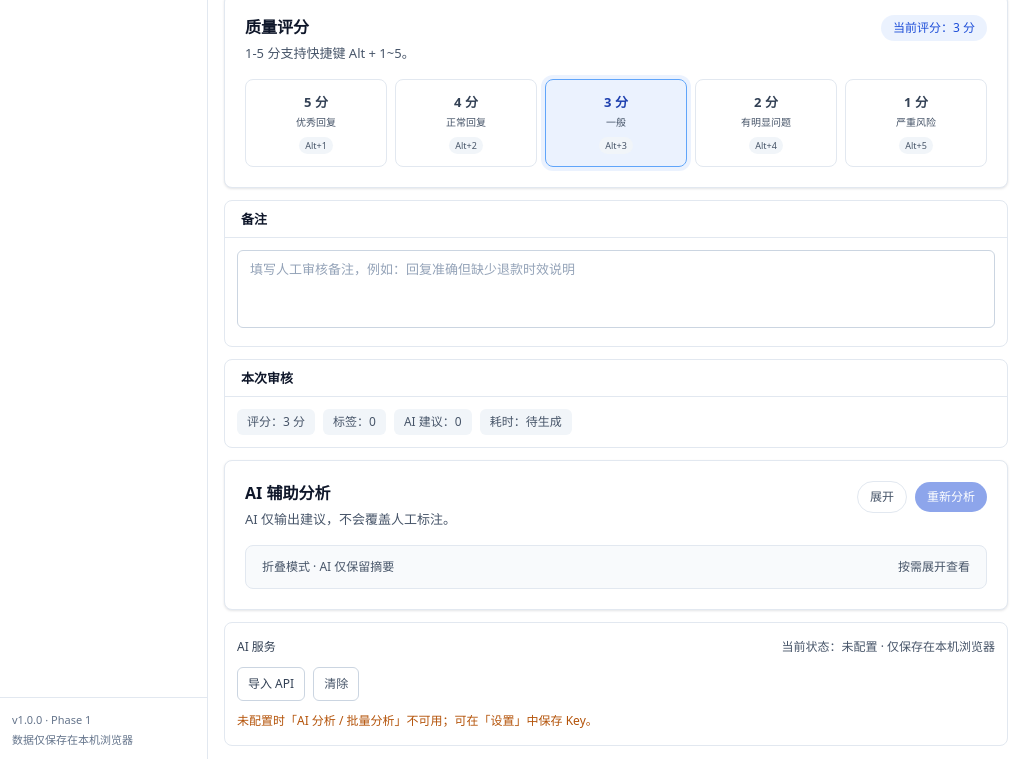
it: F. AI 分析 › 分析失败（DeepSeek 返回 HTTP 500）→ 显示「AI 分析失败」与错误文案
(page scrolled)
Click the button "导入 API" at x=271, y=684, box [237,667,305,701]
(page scrolled)
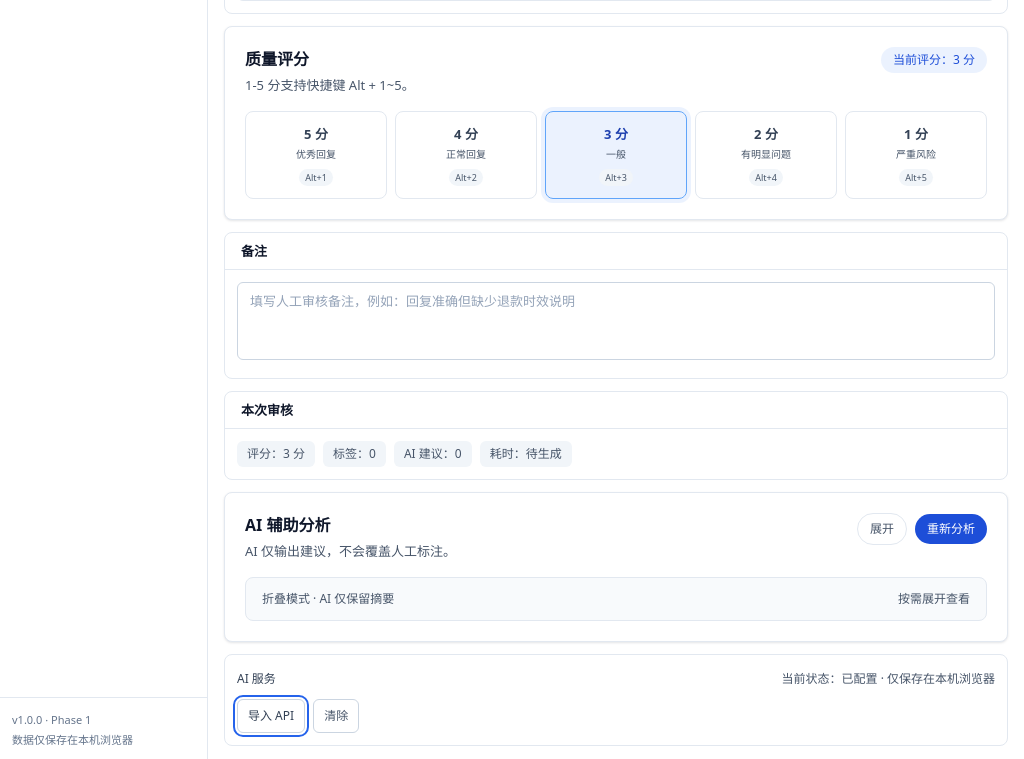
Click the button "展开" at x=882, y=529, box [857,513,907,545]
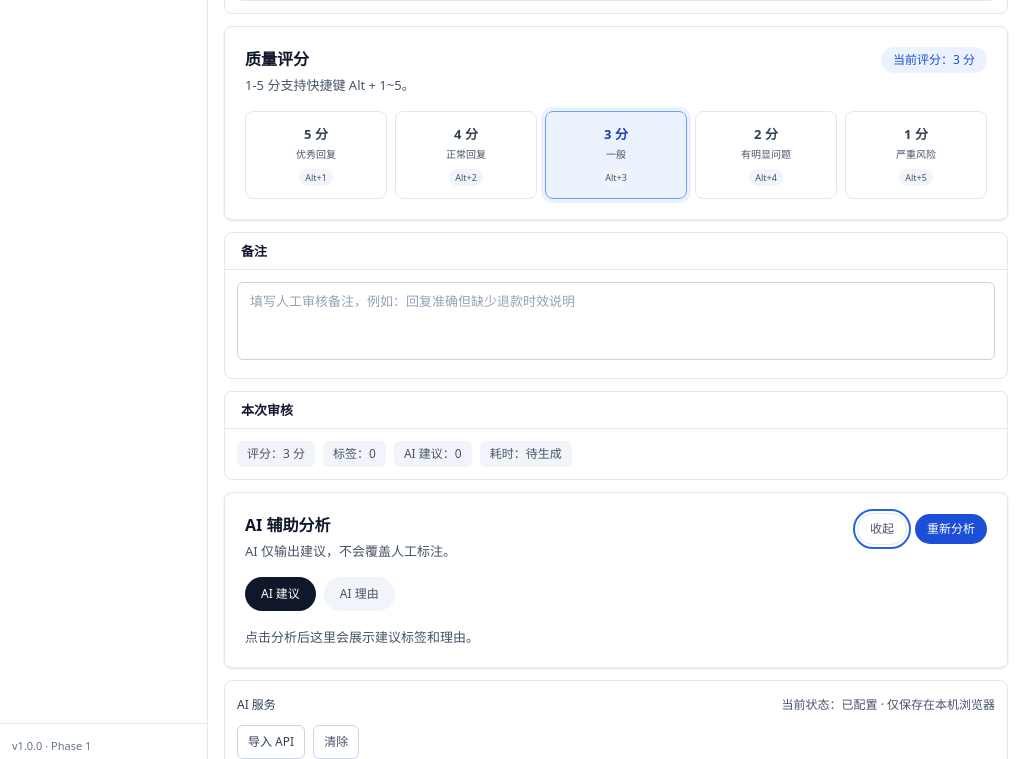
Click the button "重新分析" at x=951, y=529, box [915,514,987,544]
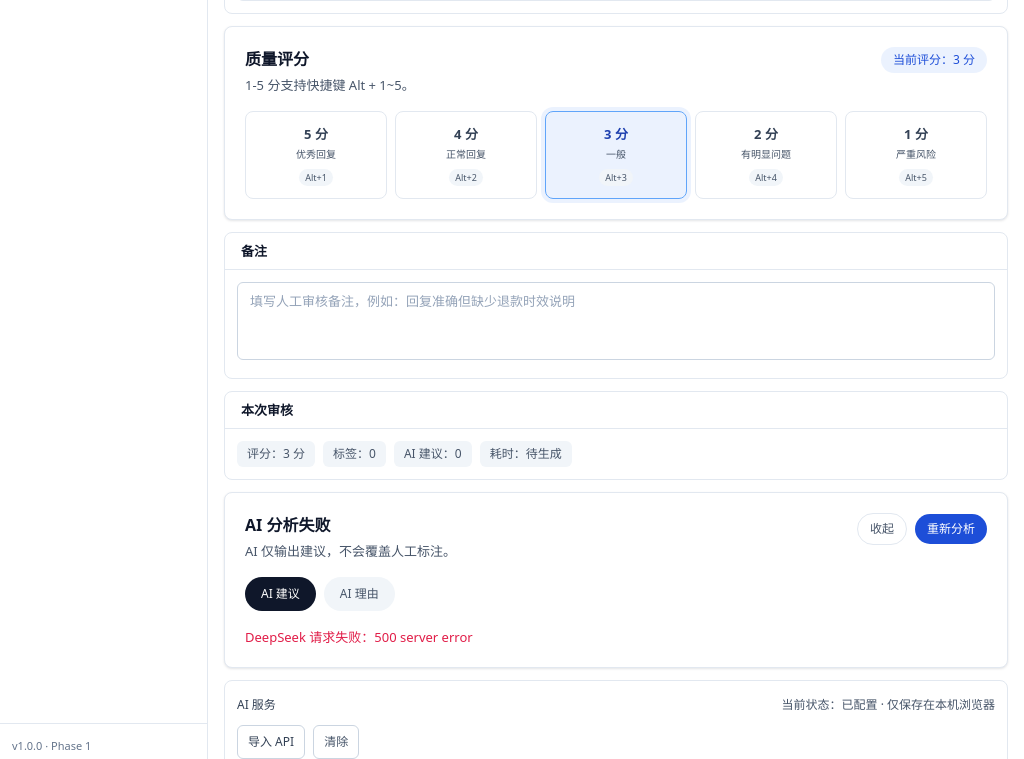
Expected: the heading "AI 分析失败" is shown, [245,514,330,536]
Expected: the text "DeepSeek 请求失败：500 server error" is shown, [245,628,473,646]
